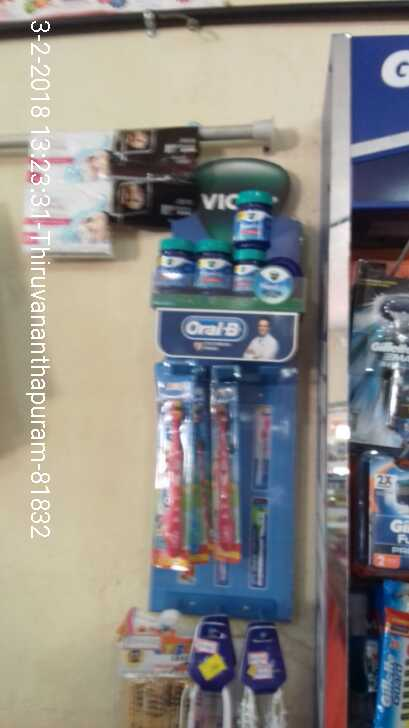pharmacy: (150, 355, 202, 570), (206, 361, 241, 561), (229, 188, 275, 247), (155, 236, 199, 293), (189, 239, 231, 295), (231, 247, 267, 296)
